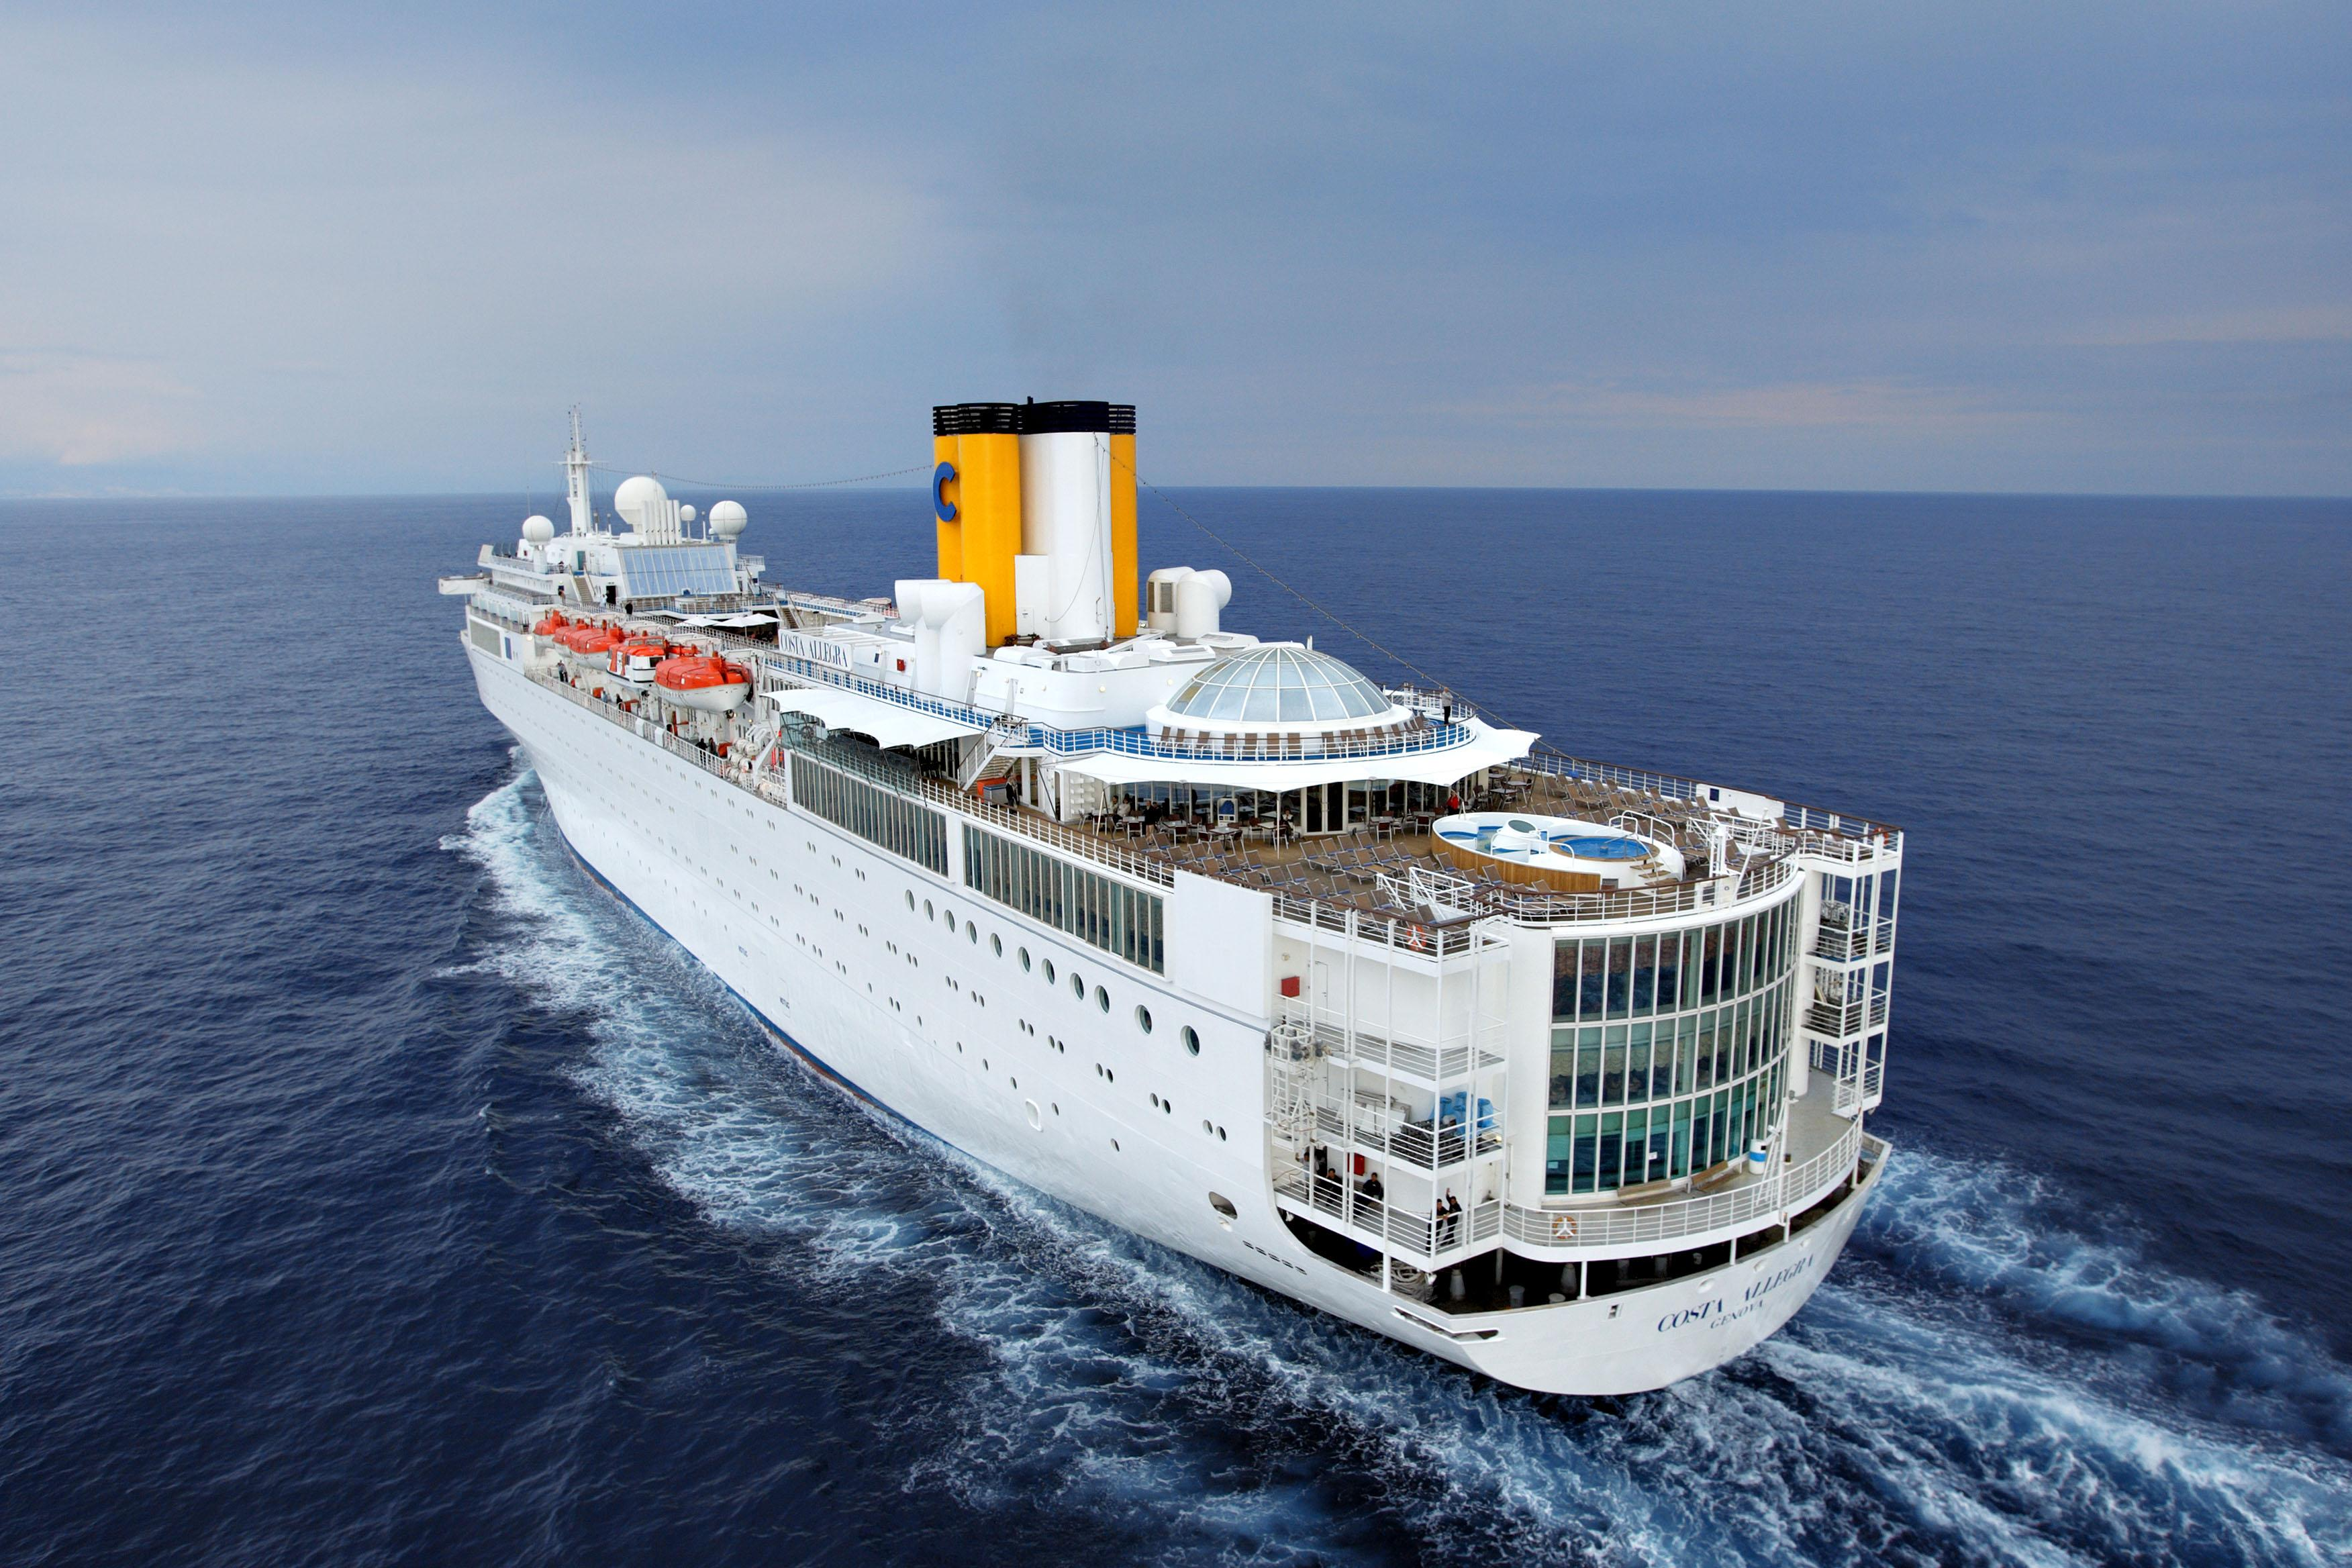youlun: (445, 390, 1913, 1388)
